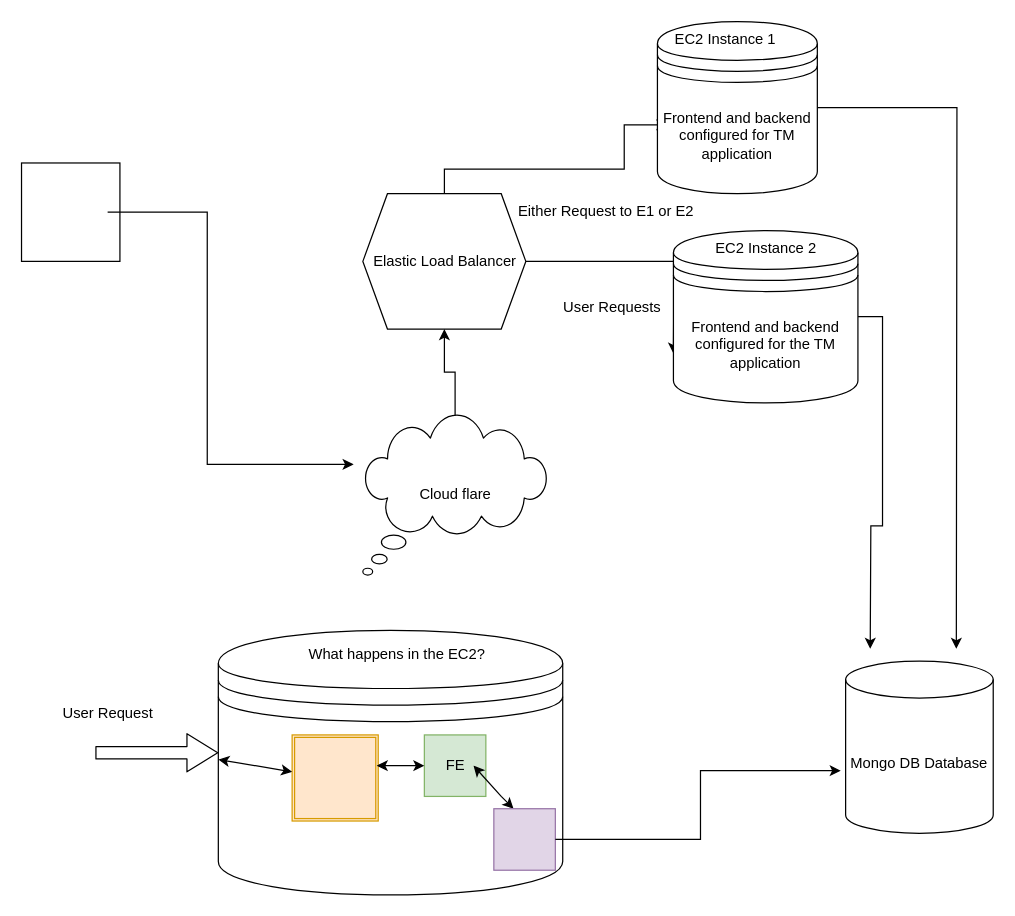
The diagram is 1015 pixels wide and 916 high, and some of its shapes have lost their labels. Here are the shapes that lost their labels. From the top down, the centre of each, then its label:
At [70,211]: "Users".
At [334,777]: "Nginx Reverse proxy server".
At [524,838]: "BE".
